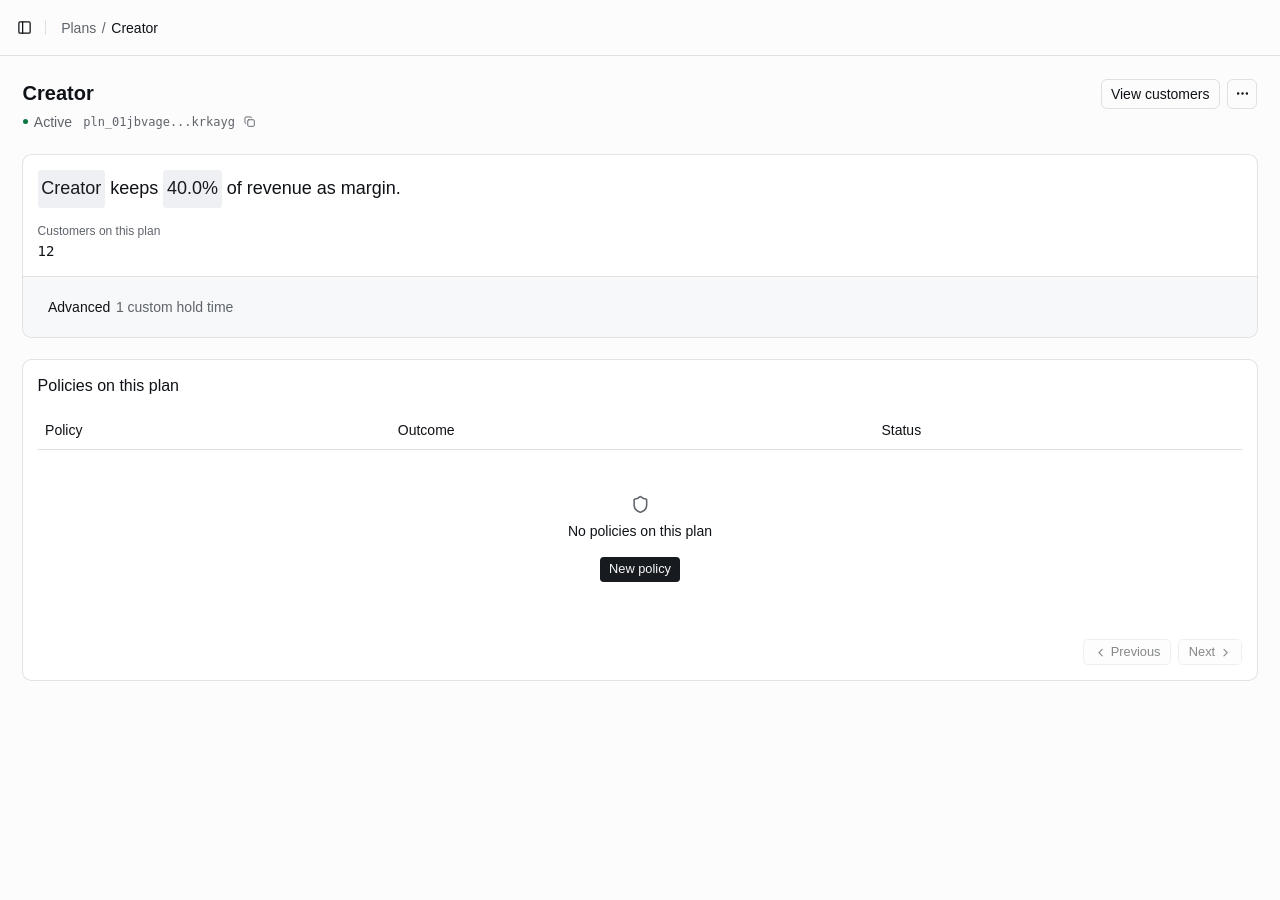
saving a plan marks the onboarding status stale
expect the heading "Creator" is shown: met, box top-left (22, 82), bottom-right (94, 104)
Step 1. Click the button "Creator" → (71, 189), box top-left (38, 170), bottom-right (105, 208)
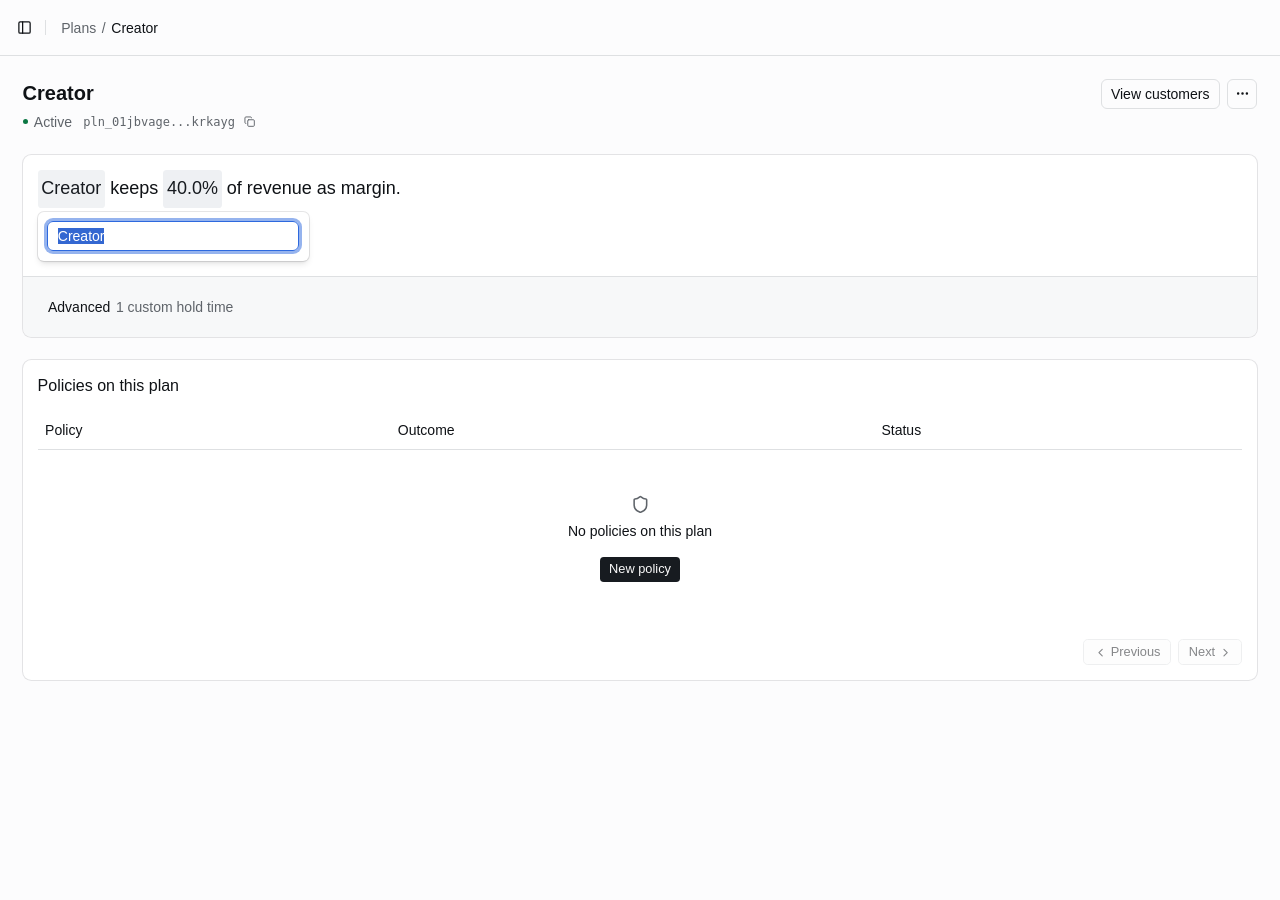
Step 2. Type " plus" into the field named "Plan name" → (173, 236), box top-left (47, 221), bottom-right (299, 252)
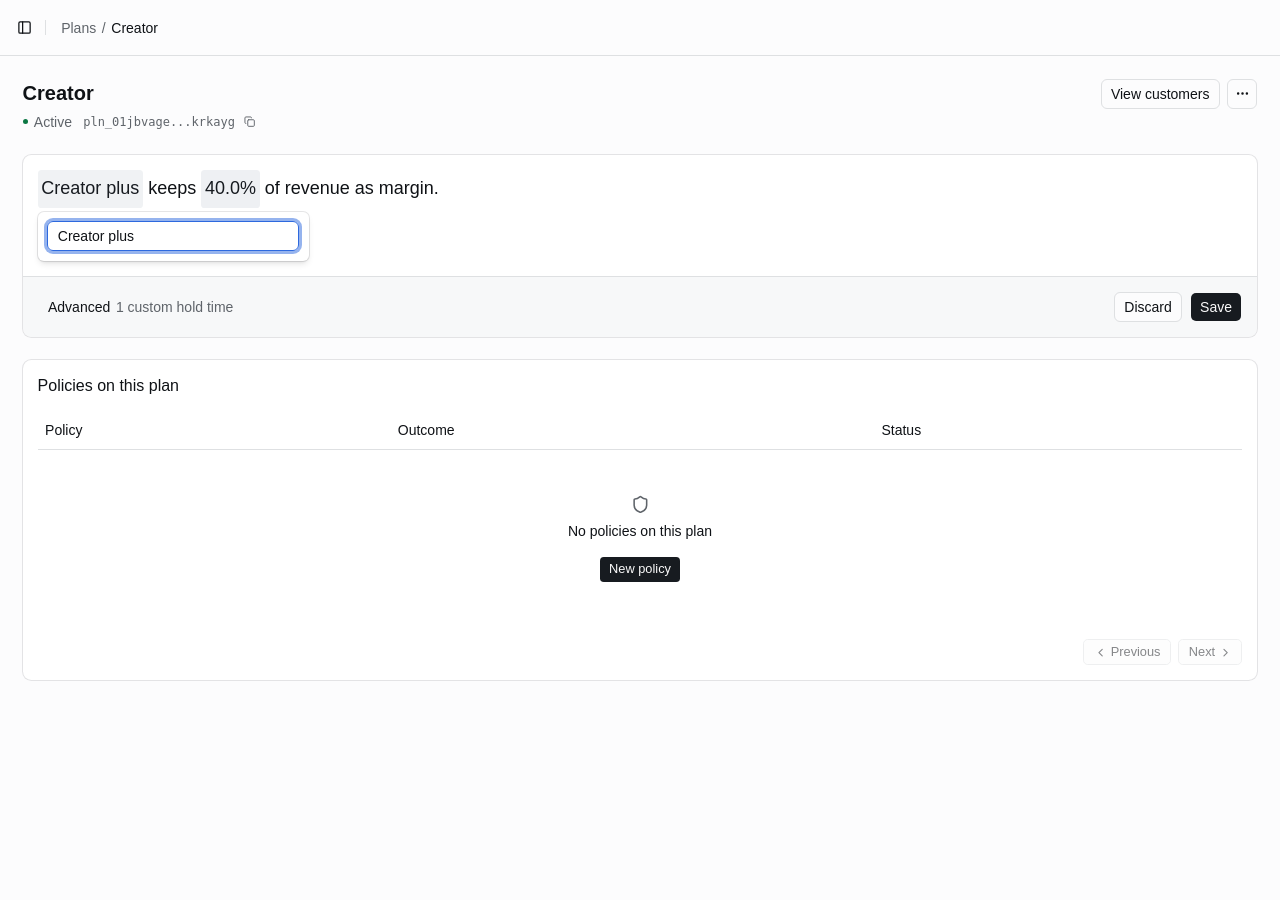
Step 3. Press Escape
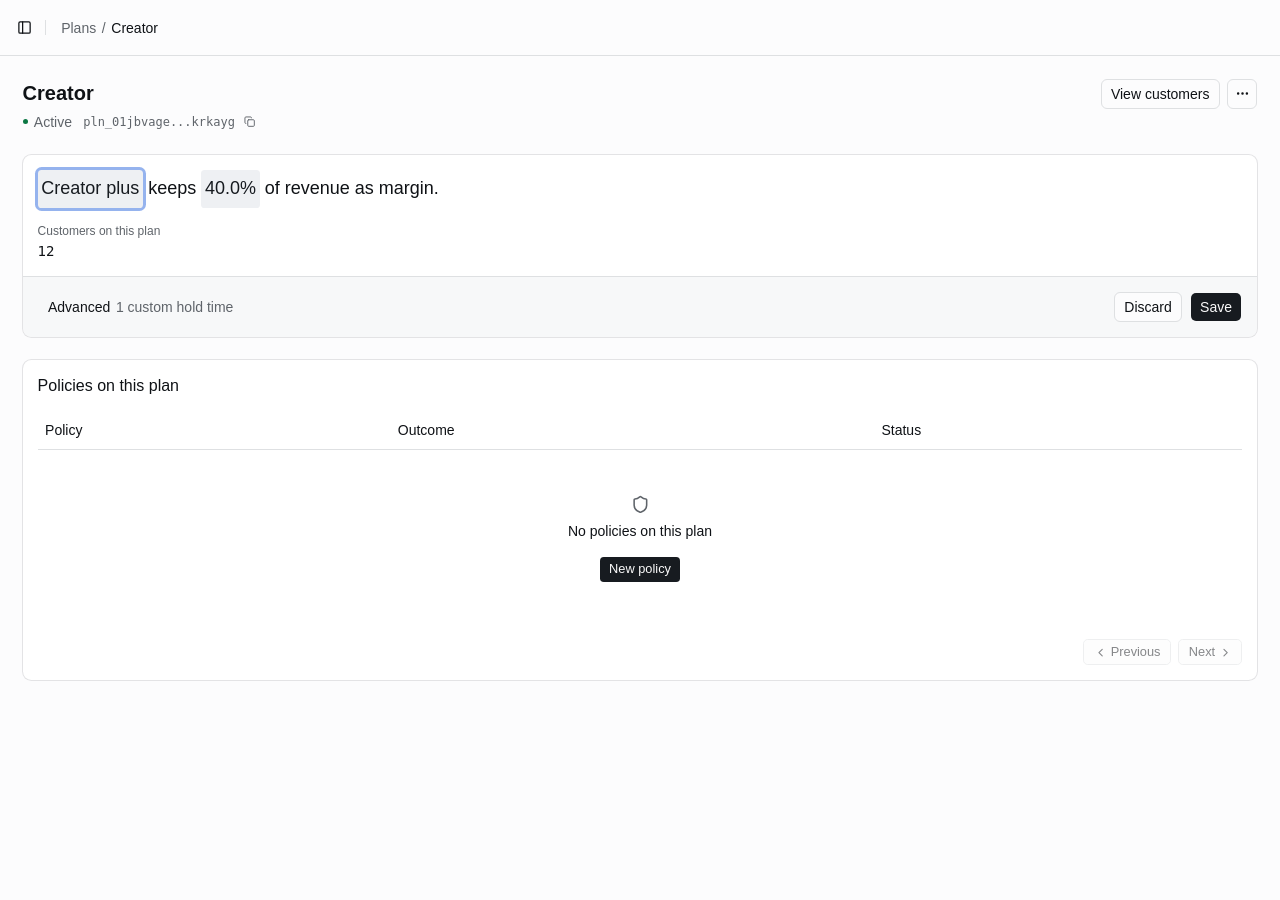
Step 4. Click the button "Save" → (1216, 307), box top-left (1190, 292), bottom-right (1242, 322)
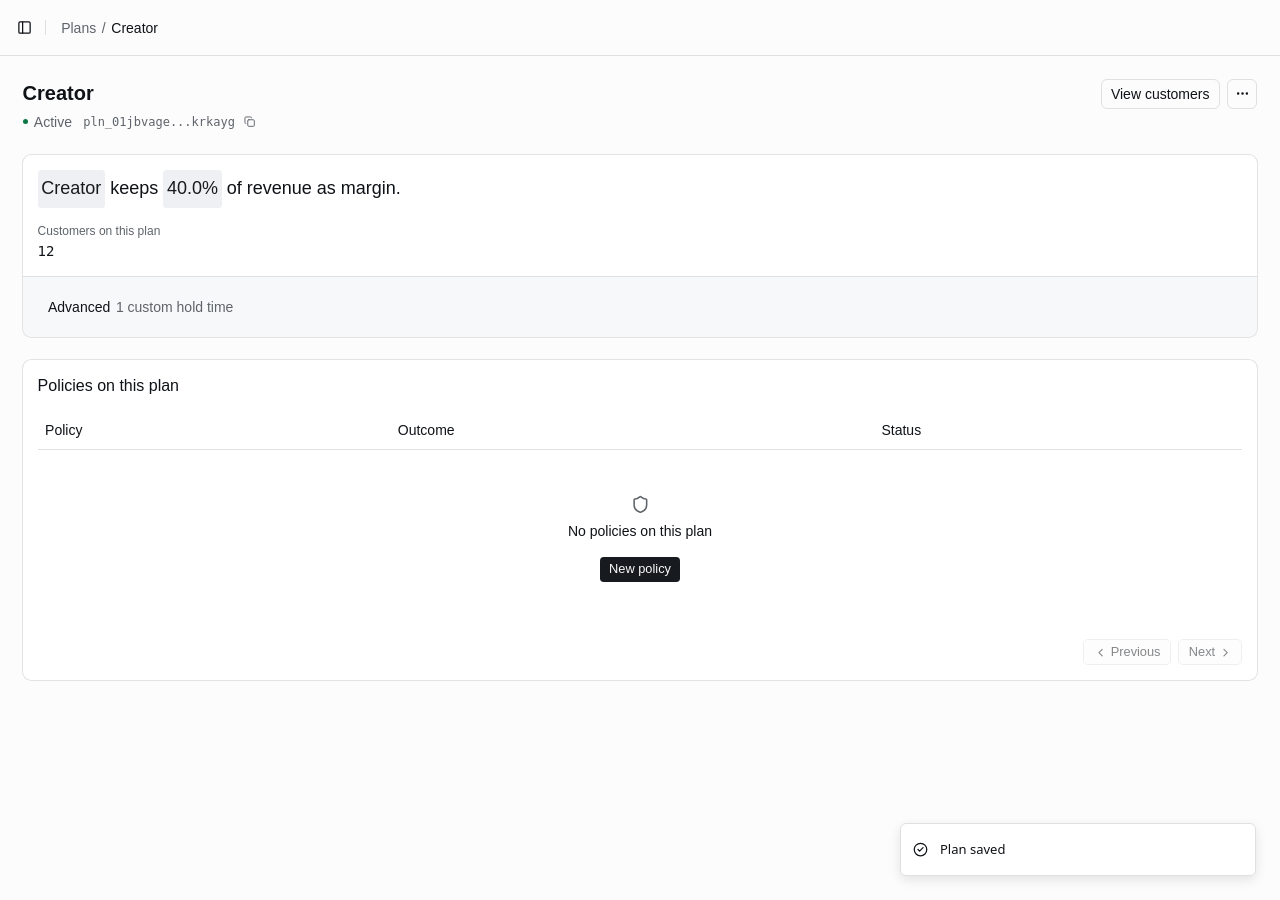
expect the text "Plan saved" is shown: met, box top-left (940, 840), bottom-right (1005, 859)
